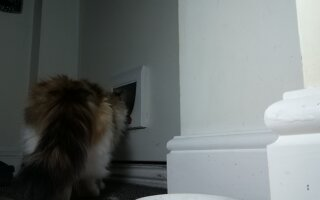clara: (27, 72, 126, 197)
